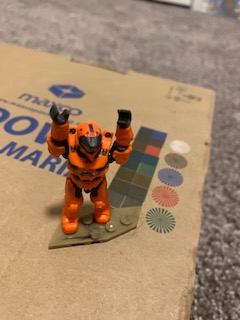spartan: (42, 105, 136, 235)
up: (41, 103, 137, 183)
